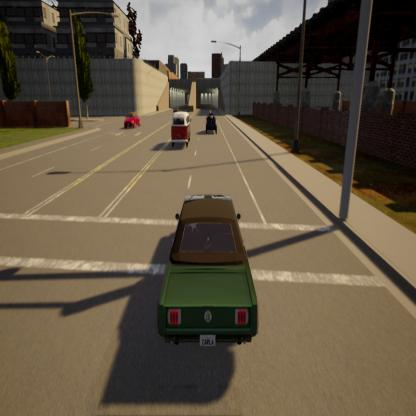Cars: (160, 194, 259, 350), (170, 112, 192, 150), (206, 110, 218, 136), (124, 112, 140, 128)
